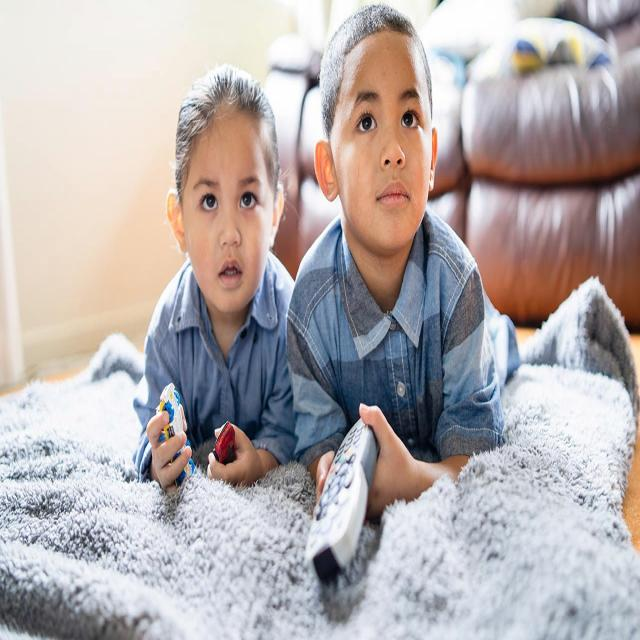child: (284, 3, 522, 518), (128, 64, 302, 499)
